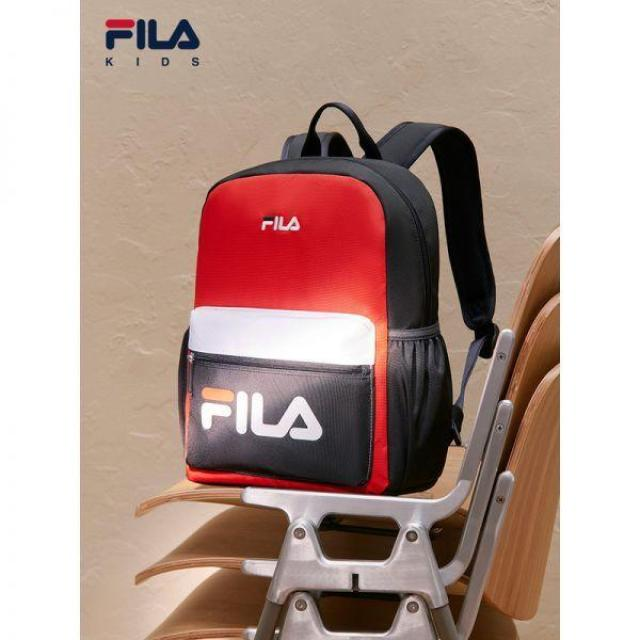backpack: (164, 118, 510, 504)
